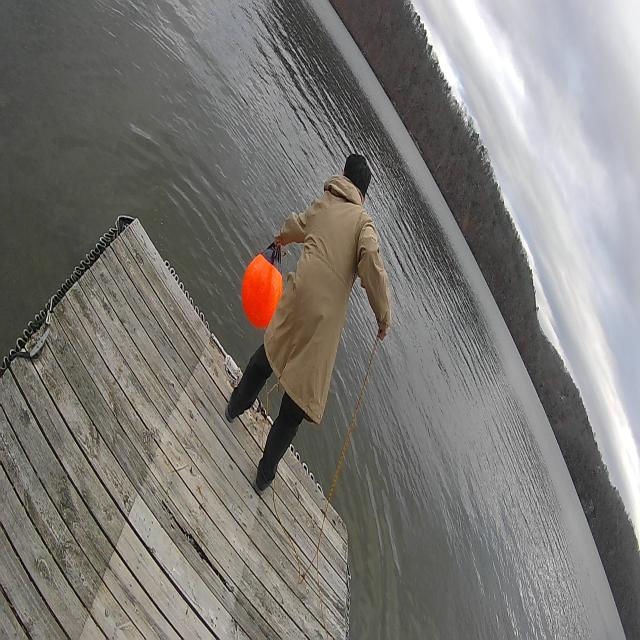Buoy: (238, 239, 286, 333)
